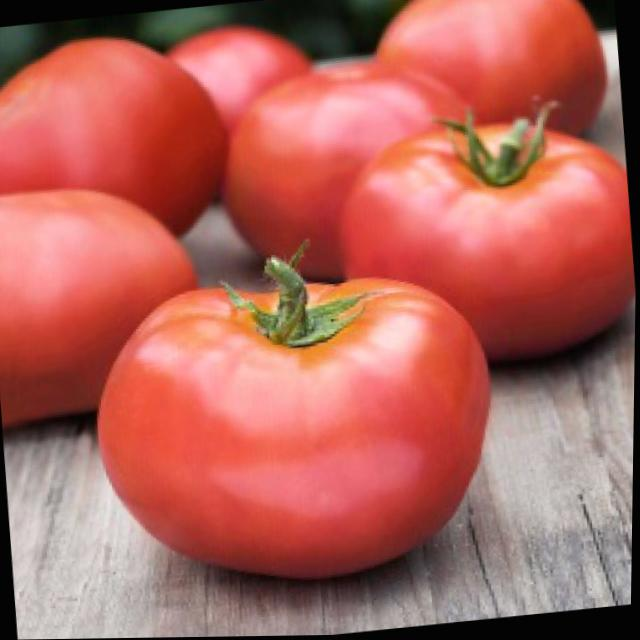tomato: (86, 259, 505, 590), (335, 108, 639, 380), (210, 55, 486, 293), (0, 27, 240, 258), (0, 178, 211, 432), (369, 0, 615, 157)
